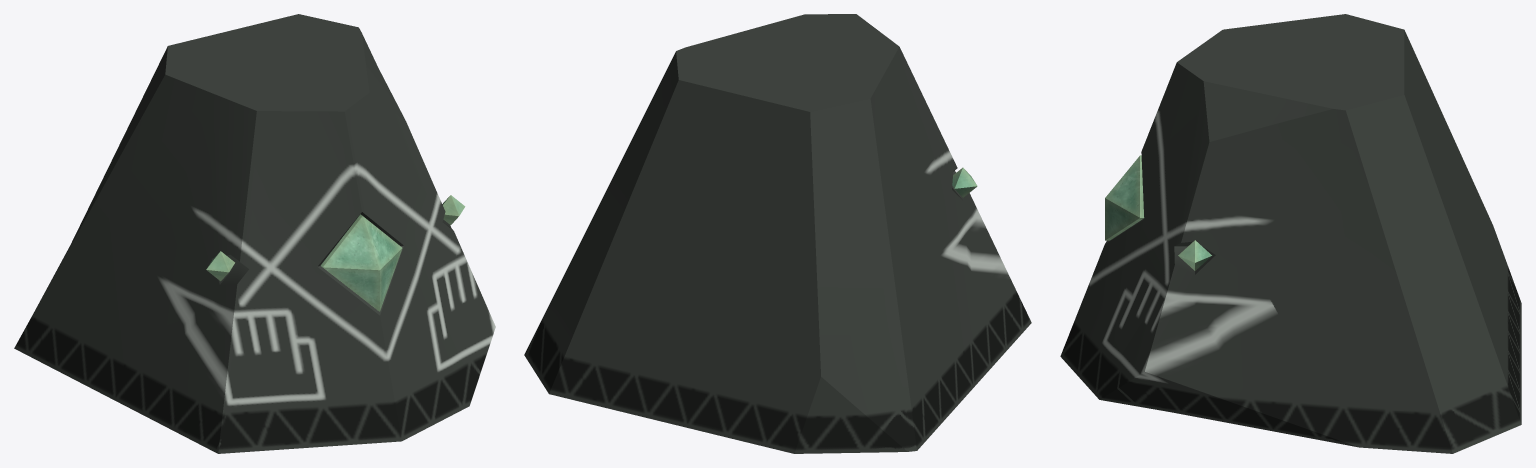
File: dohtakun.fbx
The picture shows the model from 3 angles, left to right: view 1: azimuth 30°, elevation 25°; view 2: azimuth 150°, elevation 25°; view 3: azimuth 270°, elevation 25°; orthographic projection. The views are drawn at different scales.
Visible parts, largest first — view 1: doutakun_body; view 2: doutakun_body; view 3: doutakun_body.
Boxes of the visible parts, box(x1,y1,x2,y2) form: doutakun_body: box(14, 14, 495, 453); doutakun_body: box(524, 14, 1031, 453); doutakun_body: box(1060, 14, 1521, 453).
Bounding box in the file's own units: 426 × 300 × 426.
